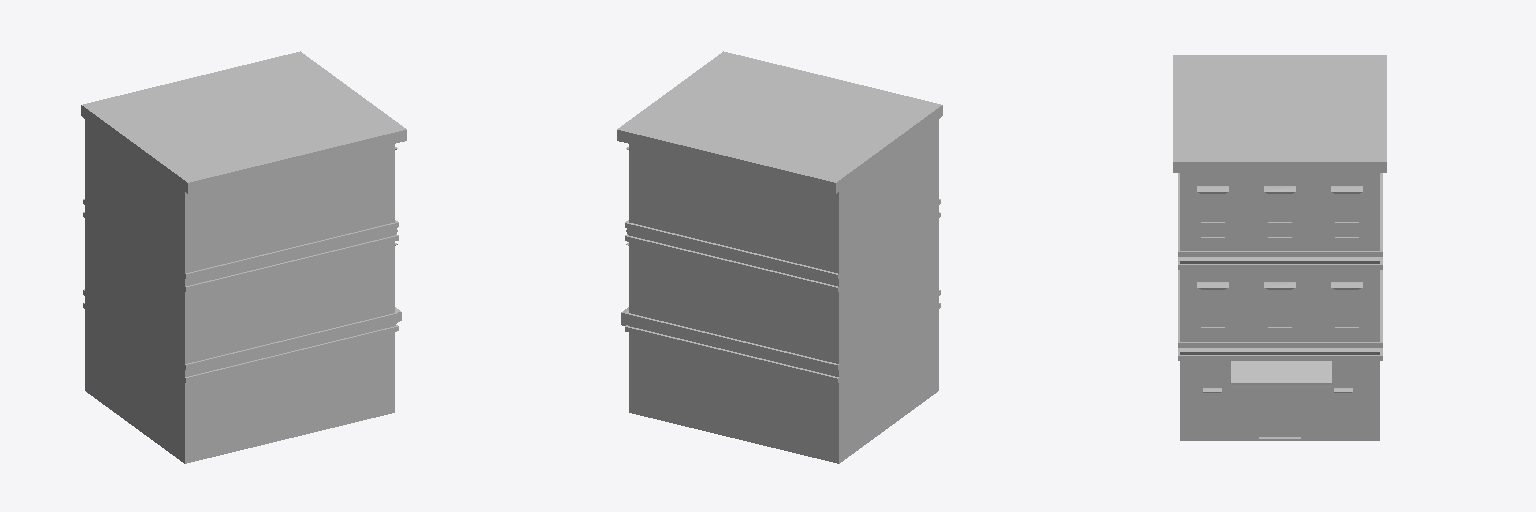
The model's file is building.obj.
3 views of the same model, side by side, from view 1: azimuth 30°, elevation 25°; view 2: azimuth 150°, elevation 25°; view 3: azimuth 270°, elevation 25° (orthographic).
Parts seen in each view (by area): view 1: Cube.002; view 2: Cube.002; view 3: Cube.002, Cube.003.
Boxes of the visible parts, x1=… form: Cube.002: x1=81, y1=51, x2=406, y2=463; Cube.002: x1=617, y1=51, x2=942, y2=463; Cube.002: x1=1173, y1=55, x2=1386, y2=440; Cube.003: x1=1231, y1=361, x2=1331, y2=395.
Bounding box in the file's own units: 2.79 × 3.12 × 2.13.